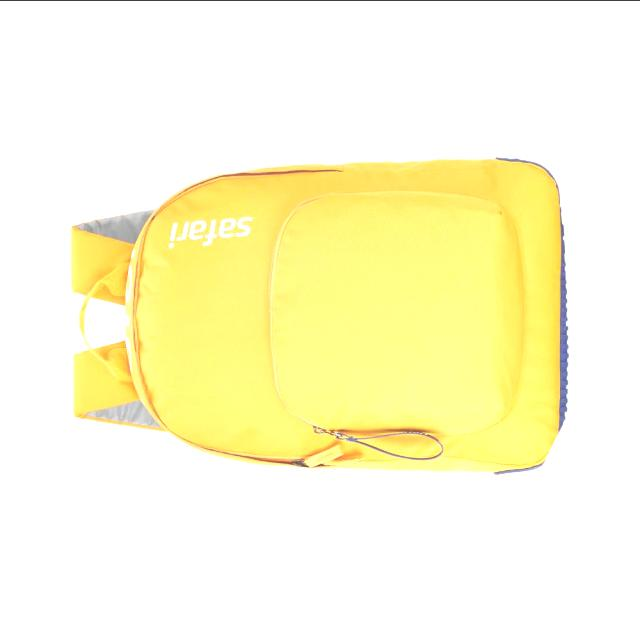backpack: (72, 157, 568, 475)
